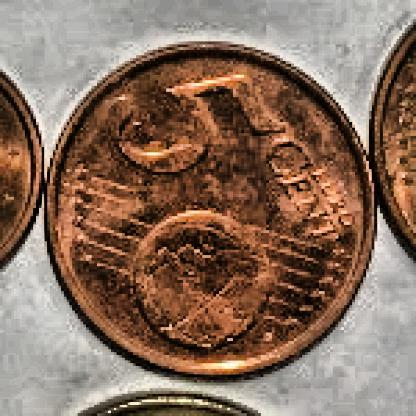coin: (39, 43, 368, 386)
